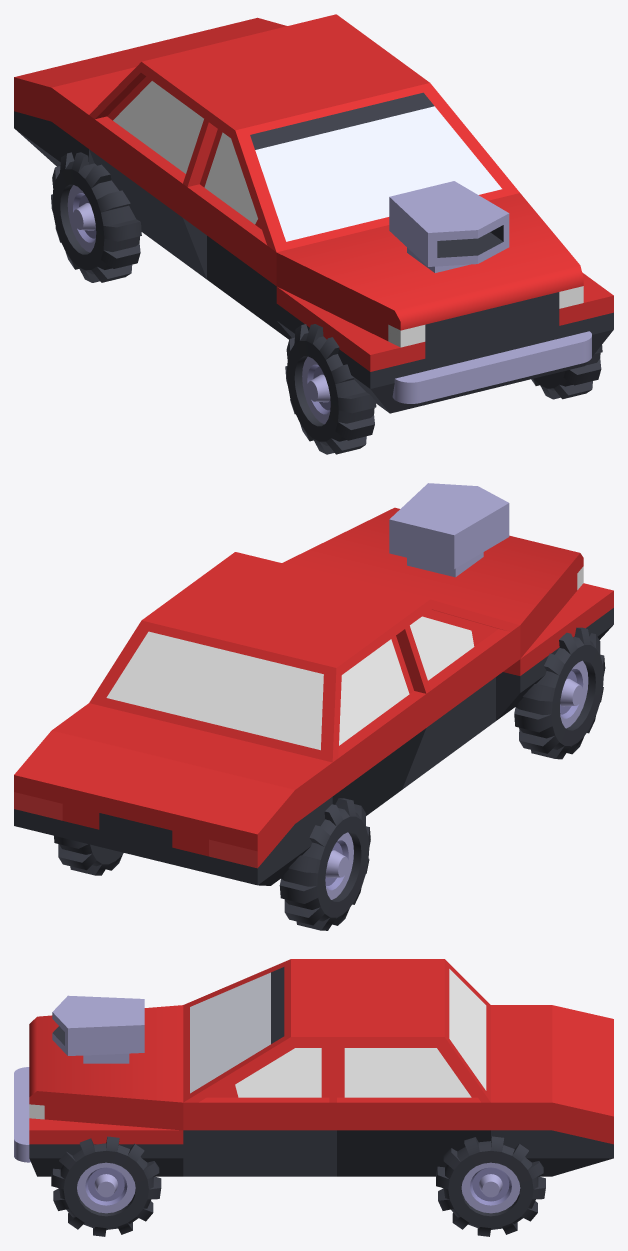
File: Fiesta.fbx
3 renders of one model, top to bottom at view 1: azimuth 30°, elevation 25°; view 2: azimuth 150°, elevation 25°; view 3: azimuth 270°, elevation 25°, orthographic. The views are drawn at different scales.
Visible parts, largest first — view 1: mergedBlocks; view 2: mergedBlocks; view 3: mergedBlocks.
Boxes of the visible parts, box(x1,y1,x2,y2) form: mergedBlocks: box(14, 14, 613, 454); mergedBlocks: box(14, 483, 613, 930); mergedBlocks: box(14, 959, 613, 1236).
Size of the model in its own units: 16.16 by 13.58 by 39.
